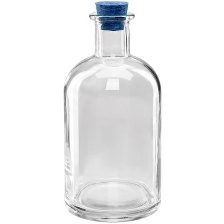bottle: (60, 10, 164, 223)
